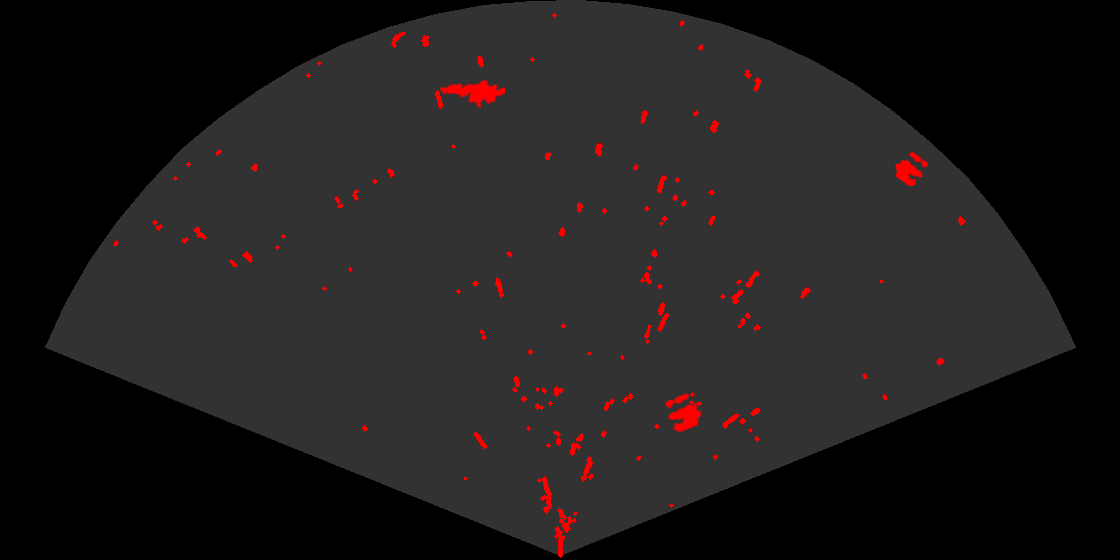ball: (663, 392, 703, 434), (894, 150, 930, 188)
frogman: (438, 78, 505, 109)
